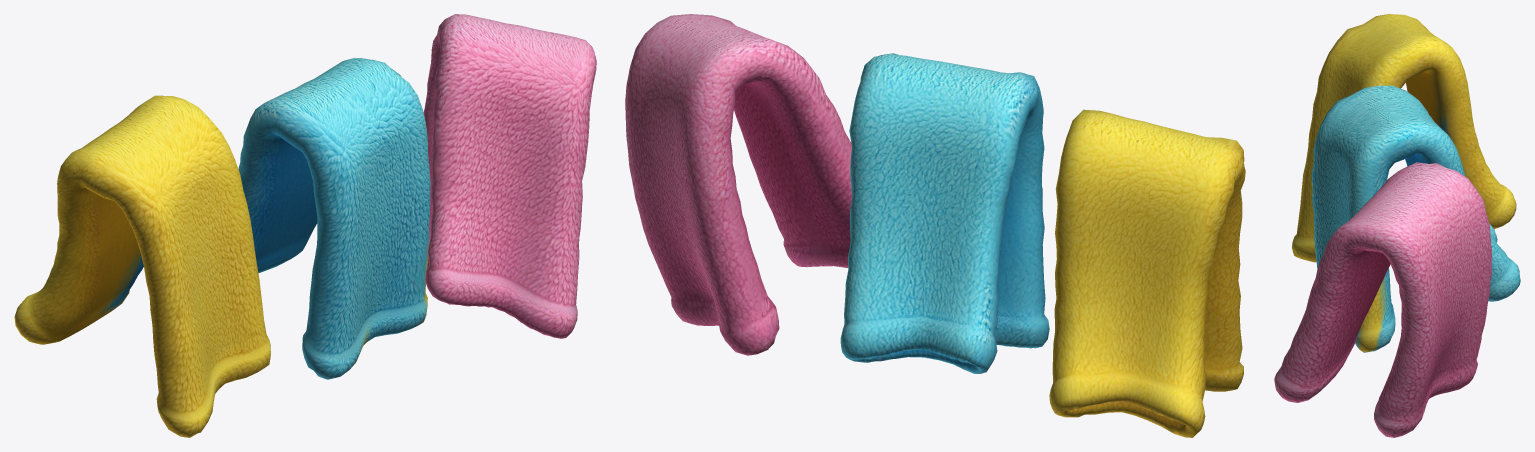
File: towels_tripo.glb
3 renders of one model, left to right at view 1: azimuth 30°, elevation 25°; view 2: azimuth 150°, elevation 25°; view 3: azimuth 270°, elevation 25°, orthographic. The views are drawn at different scales.
Visible parts, largest first — view 1: towel_0, towel_2, towel_1; view 2: towel_1, towel_0, towel_2; view 3: towel_2, towel_1, towel_0.
Boxes of the visible parts, x1,y1,x2,y2 form: towel_0: (14,95,270,437); towel_2: (423,14,596,338); towel_1: (238,57,448,379); towel_1: (840,53,1049,373); towel_0: (1049,109,1245,437); towel_2: (625,14,851,355); towel_2: (1274,162,1491,437); towel_1: (1311,85,1520,352); towel_0: (1292,14,1516,262).
Size of the model in its own units: 0.9995 by 0.4966 by 0.4575.
1 material, 1 textured.
